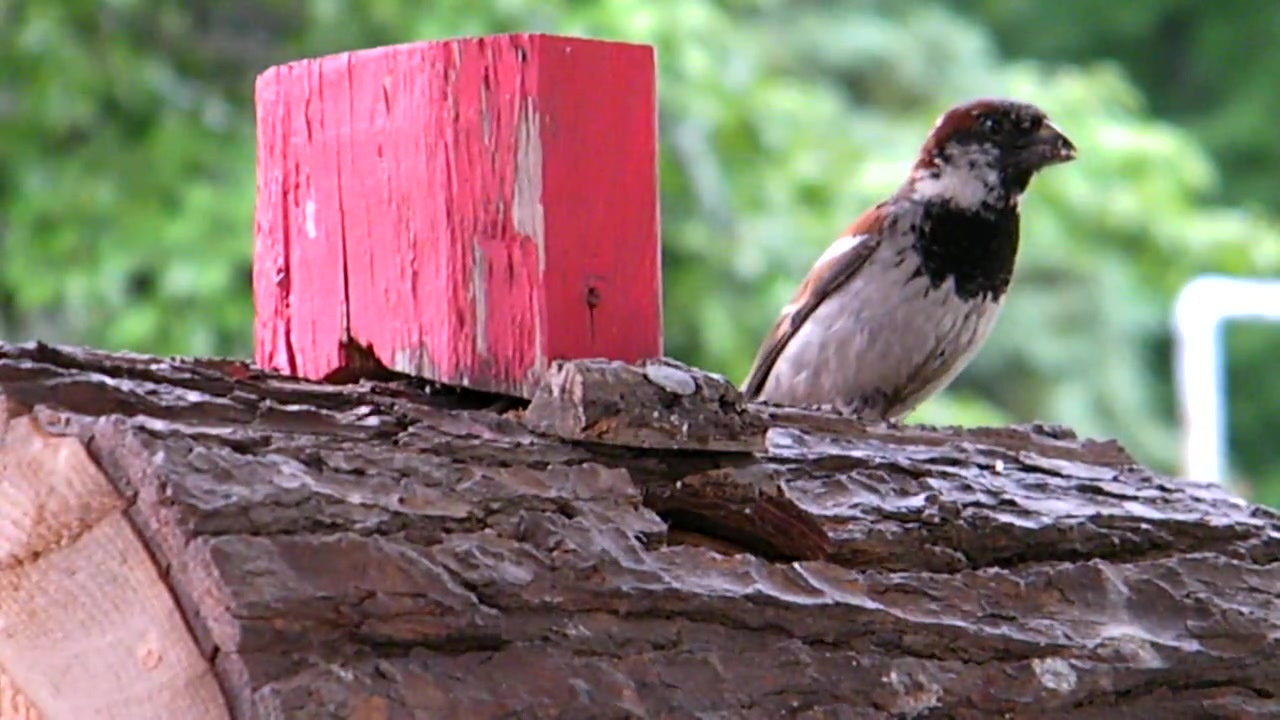bird: (738, 102, 1081, 431)
